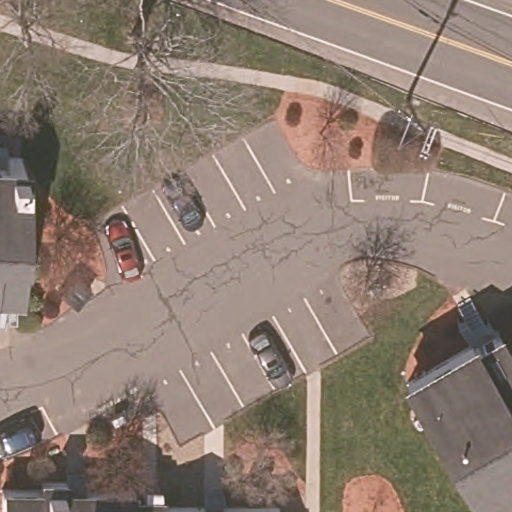DT: (397, 92, 438, 160)
